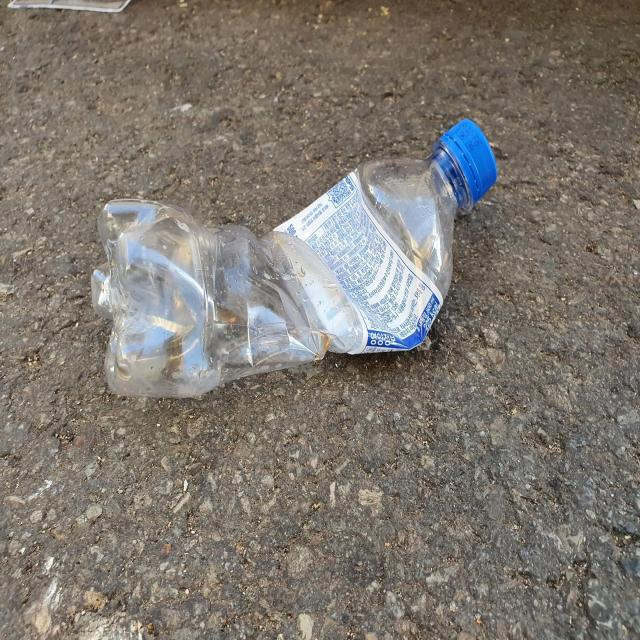plastic: (91, 119, 498, 397)
